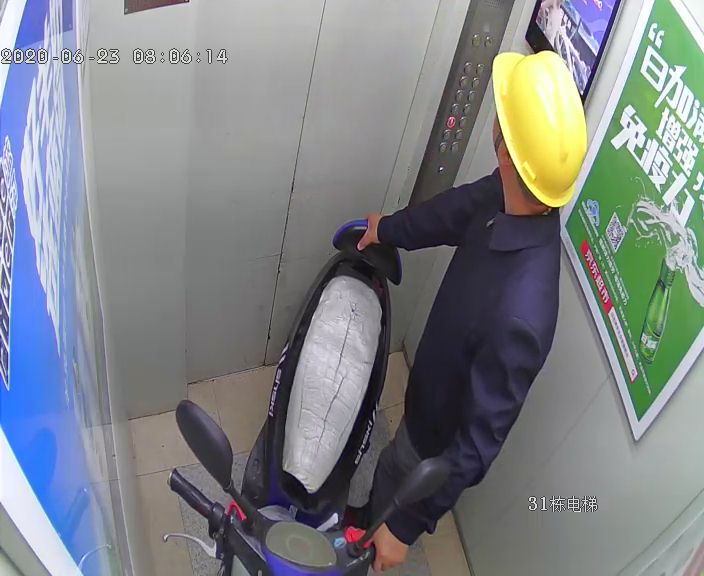Electric-bicycle: (164, 218, 406, 576)
